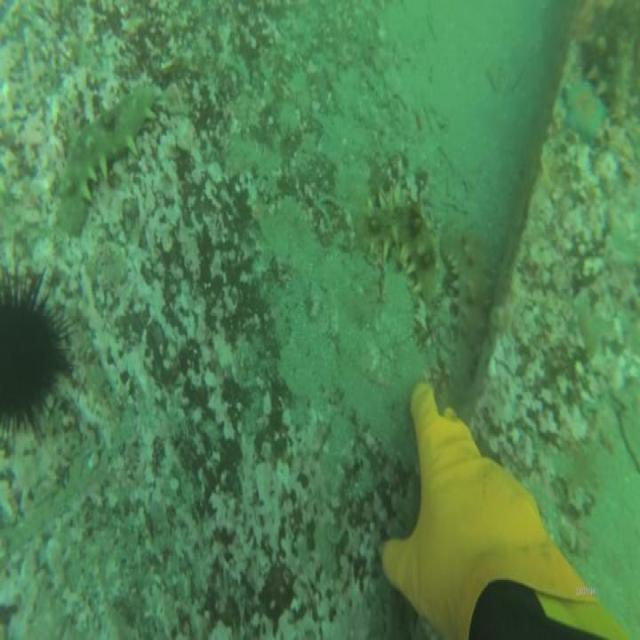echinus: (1, 258, 80, 447)
holothurian: (48, 76, 157, 245), (354, 175, 442, 313), (441, 231, 497, 362), (603, 33, 640, 132)
starfish: (561, 72, 609, 152)
